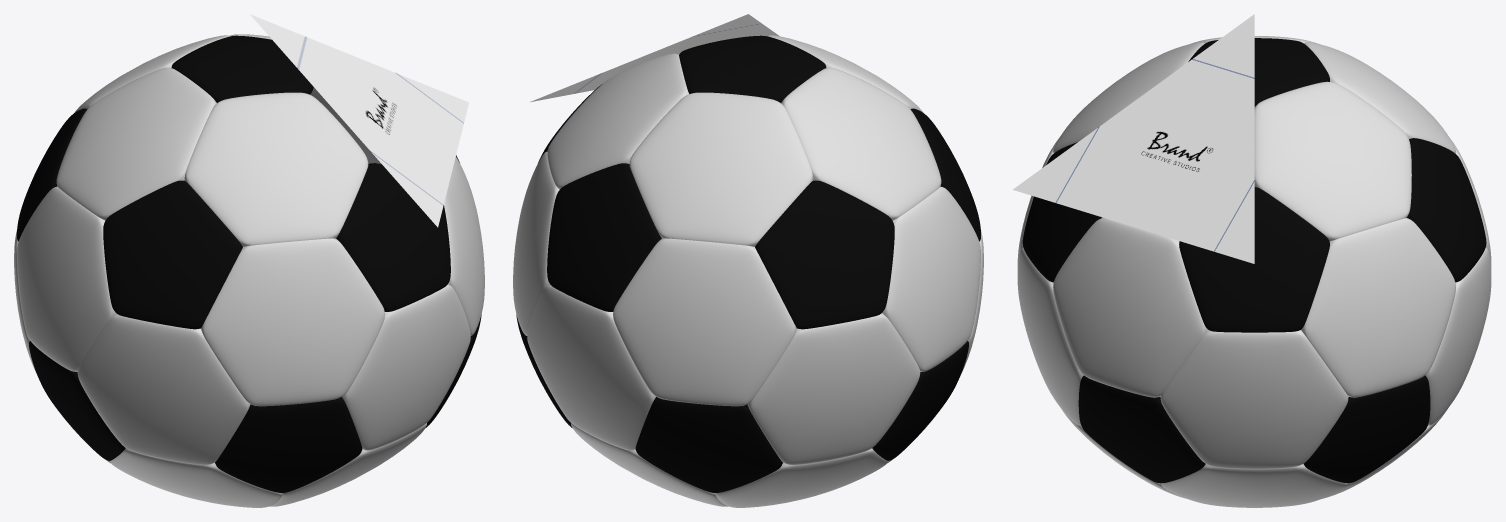
File: ball.glb
3 renders of one model, left to right at view 1: azimuth 30°, elevation 25°; view 2: azimuth 150°, elevation 25°; view 3: azimuth 270°, elevation 25°, orthographic.
Visible parts, largest first — view 1: Icosphere, Icosphere.001; view 2: Icosphere, Icosphere.001; view 3: Icosphere, Icosphere.001.
Part boxes in pixels (x1,y1,x2,y2): Icosphere: (14, 34, 484, 507); Icosphere.001: (250, 14, 468, 227); Icosphere: (513, 35, 983, 507); Icosphere.001: (530, 14, 779, 102); Icosphere: (1017, 36, 1491, 507); Icosphere.001: (1013, 14, 1254, 263).
Bounding box in the file's own units: 0.3669 × 0.3895 × 0.3585.
Materials: 3 (1 with a texture image).
